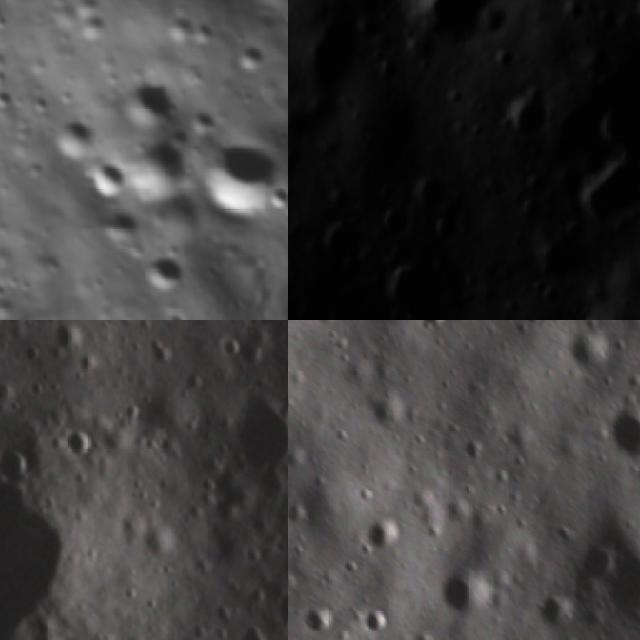crater: (190, 120, 288, 236), (207, 368, 288, 483), (126, 125, 211, 208), (245, 422, 288, 568), (300, 10, 370, 99), (569, 153, 640, 230), (378, 255, 455, 320), (116, 68, 183, 137), (43, 107, 106, 170), (416, 0, 499, 46), (49, 412, 111, 472), (136, 247, 192, 304), (81, 153, 136, 207), (0, 428, 45, 493), (504, 91, 558, 144), (316, 214, 371, 266), (585, 94, 640, 146), (94, 198, 148, 250), (529, 236, 587, 284), (39, 320, 96, 366), (440, 578, 498, 621), (608, 407, 640, 468), (260, 574, 288, 637), (368, 202, 408, 245), (582, 547, 621, 588), (578, 330, 619, 369), (408, 175, 442, 217), (222, 617, 279, 640), (368, 517, 401, 549), (306, 605, 337, 636), (364, 605, 390, 640), (276, 356, 288, 421), (265, 182, 288, 214), (416, 320, 450, 341), (518, 320, 553, 335)
